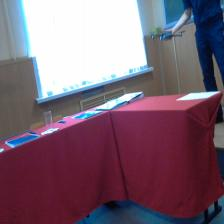drone: (146, 27, 188, 48)
